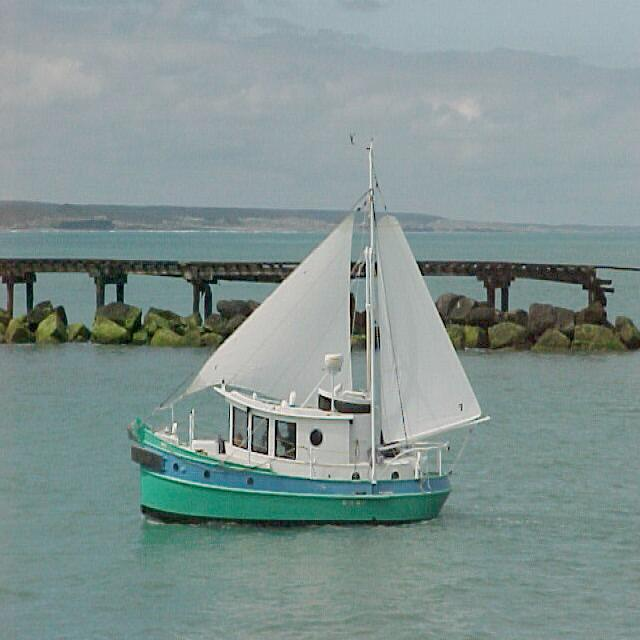Ship: (121, 164, 486, 532)
